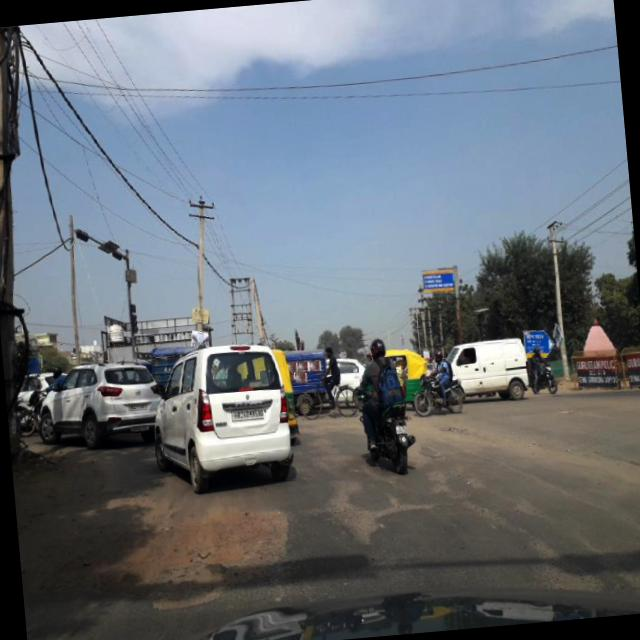crack: (429, 454, 588, 580)
pothole: (104, 490, 300, 616), (316, 463, 442, 541)
